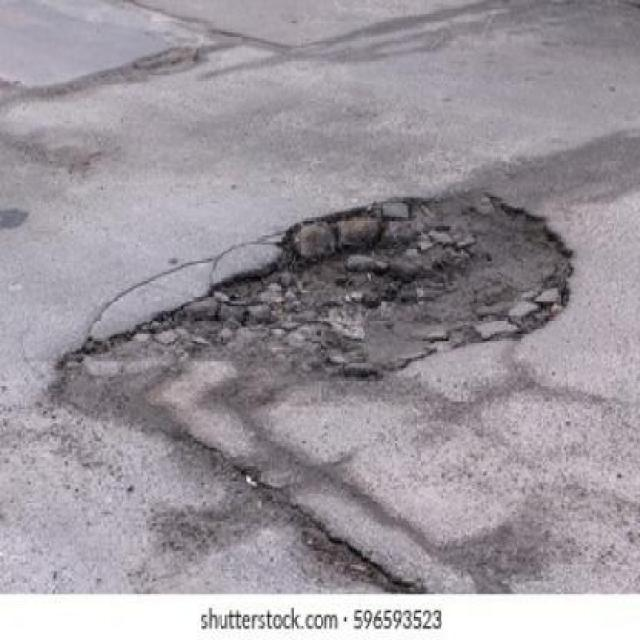Pothole: (90, 187, 575, 382)
